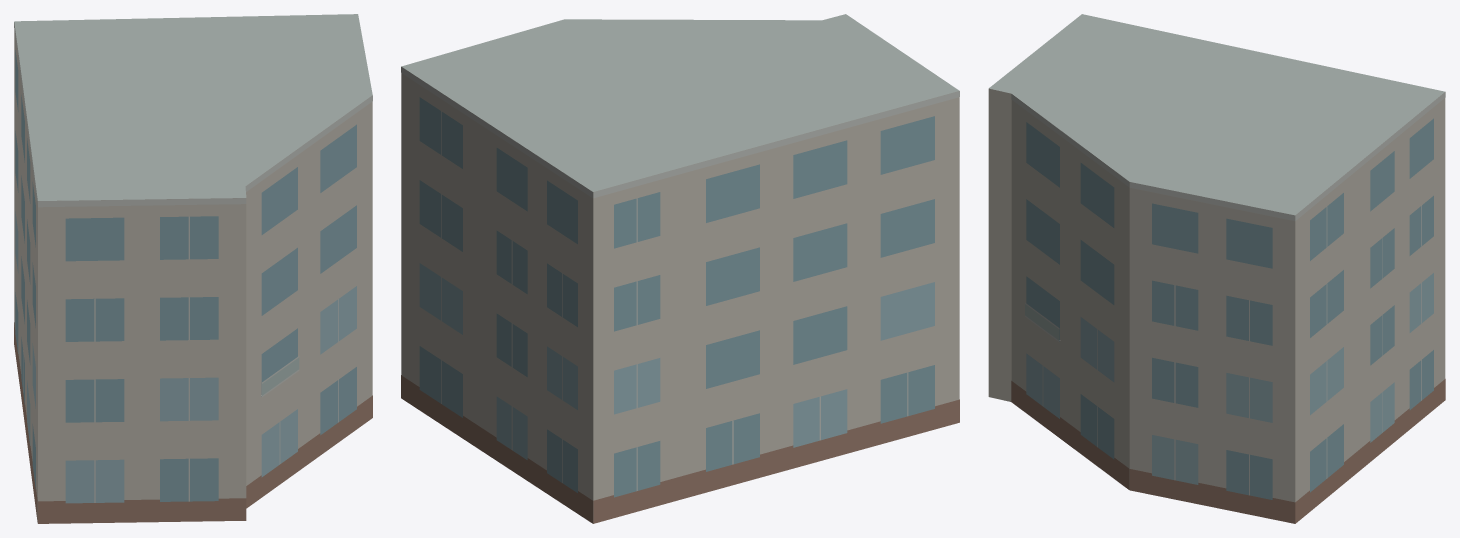
Rendered from survey-upis-32657228.glb.
3 views of the same model, side by side, from view 1: azimuth 30°, elevation 25°; view 2: azimuth 150°, elevation 25°; view 3: azimuth 270°, elevation 25° (orthographic). The views are drawn at different scales.
Visible parts, largest first — view 1: survey-upis-32657228.tmp; view 2: survey-upis-32657228.tmp; view 3: survey-upis-32657228.tmp.
Part boxes in pixels (box(x1,y1,x2,y2)): survey-upis-32657228.tmp: box(14, 14, 372, 523); survey-upis-32657228.tmp: box(401, 14, 959, 523); survey-upis-32657228.tmp: box(988, 14, 1445, 523).
Bounding box in the file's own units: 17.93 × 12.8 × 17.19.
